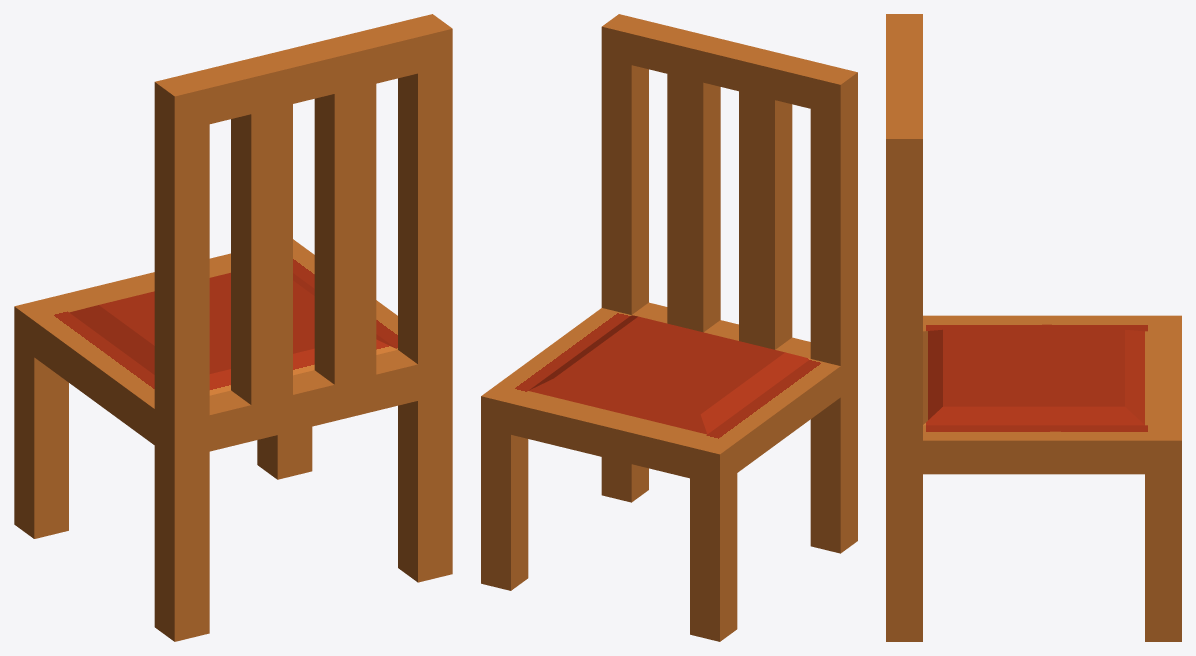
File: Cadeira.obj
The picture shows the model from 3 angles, left to right: view 1: azimuth 30°, elevation 25°; view 2: azimuth 150°, elevation 25°; view 3: azimuth 270°, elevation 25°; orthographic projection. The views are drawn at different scales.
Visible parts, largest first — view 1: cuboid; view 2: cuboid; view 3: cuboid.
Part boxes in pixels (x1,y1,x2,y2): cuboid: [14, 14, 452, 641]; cuboid: [481, 14, 857, 641]; cuboid: [886, 14, 1181, 641].
Bounding box in the file's own units: 0.5 × 0.9375 × 0.5.
1 material, 1 textured.
